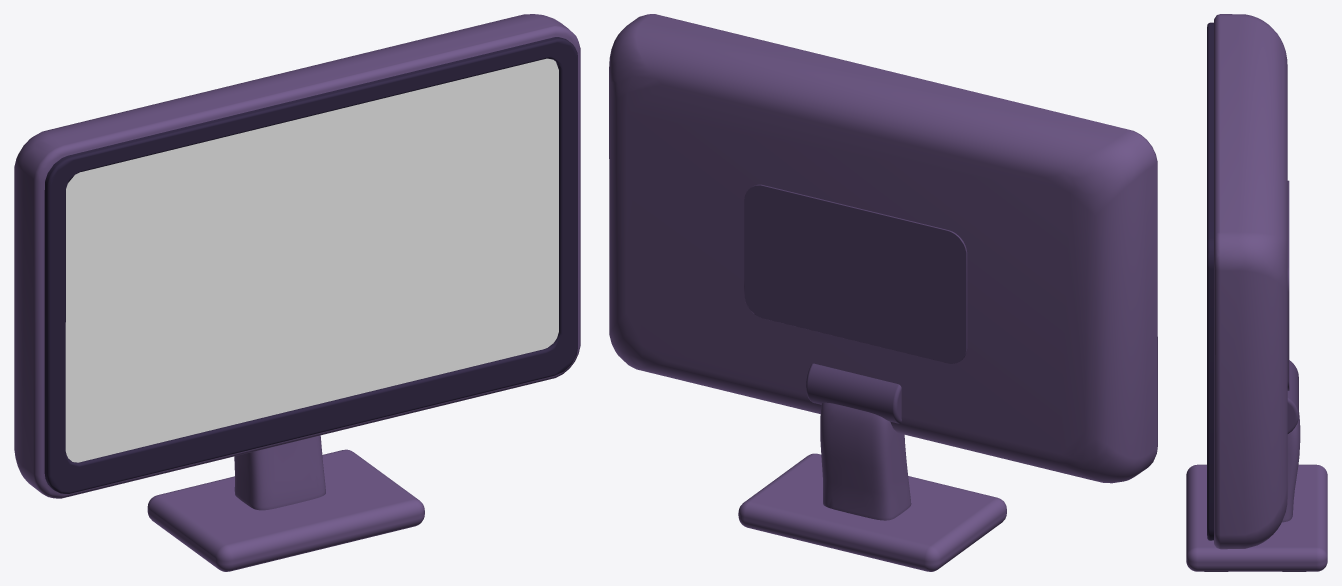
File: monitor_mobile.glb
3 renders of one model, left to right at view 1: azimuth 30°, elevation 25°; view 2: azimuth 150°, elevation 25°; view 3: azimuth 270°, elevation 25°, orthographic. The views are drawn at different scales.
Visible parts, largest first — view 1: Blank glass display_export, Chunky rounded bezel with recessed opening_export, Continuous rounded enclosure_export, Stable rounded rectangular foot_export, Short rounded support stem_export; view 2: Continuous rounded enclosure_export, Simple inset rear service panel_export, Stable rounded rectangular foot_export, Short rounded support stem_export, Rear tilt joint_export; view 3: Continuous rounded enclosure_export, Stable rounded rectangular foot_export, Chunky rounded bezel with recessed opening_export, Short rounded support stem_export, Rear tilt joint_export, Simple inset rear service panel_export.
Part boxes in pixels (<box>): Blank glass display_export: <box>65,58,558,462</box>; Chunky rounded bezel with recessed opening_export: <box>44,37,577,493</box>; Continuous rounded enclosure_export: <box>14,14,580,498</box>; Stable rounded rectangular foot_export: <box>147,449,424,571</box>; Short rounded support stem_export: <box>234,435,325,510</box>; Continuous rounded enclosure_export: <box>609,14,1157,483</box>; Simple inset rear service panel_export: <box>744,184,967,363</box>; Stable rounded rectangular foot_export: <box>738,453,1006,571</box>; Short rounded support stem_export: <box>820,402,911,520</box>; Rear tilt joint_export: <box>806,363,901,423</box>; Continuous rounded enclosure_export: <box>1214,14,1287,549</box>; Stable rounded rectangular foot_export: <box>1186,464,1327,571</box>; Chunky rounded bezel with recessed opening_export: <box>1207,22,1213,540</box>; Short rounded support stem_export: <box>1282,412,1300,522</box>; Rear tilt joint_export: <box>1287,360,1298,433</box>; Simple inset rear service panel_export: <box>1287,180,1289,390</box>.
Size of the model in its own units: 0.5 by 0.4 by 0.125.
